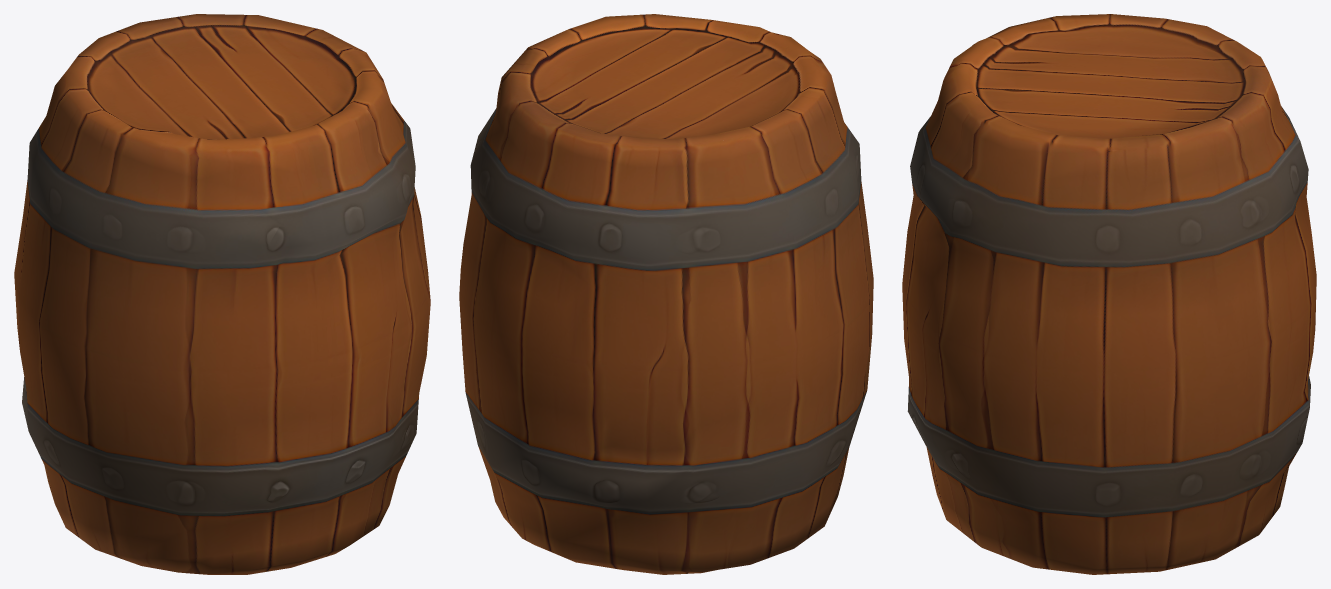
File: barrel.glb
The picture shows the model from 3 angles, left to right: view 1: azimuth 30°, elevation 25°; view 2: azimuth 150°, elevation 25°; view 3: azimuth 270°, elevation 25°; orthographic projection.
Visible parts, largest first — view 1: tripo_node_ba08403c; view 2: tripo_node_ba08403c; view 3: tripo_node_ba08403c.
Boxes of the visible parts, bbox=[...] form: tripo_node_ba08403c: bbox=[14, 14, 430, 574]; tripo_node_ba08403c: bbox=[459, 14, 873, 574]; tripo_node_ba08403c: bbox=[902, 14, 1316, 574].
Bounding box in the file's own units: 0.8819 × 1 × 0.8692.
1 material, 1 textured.
